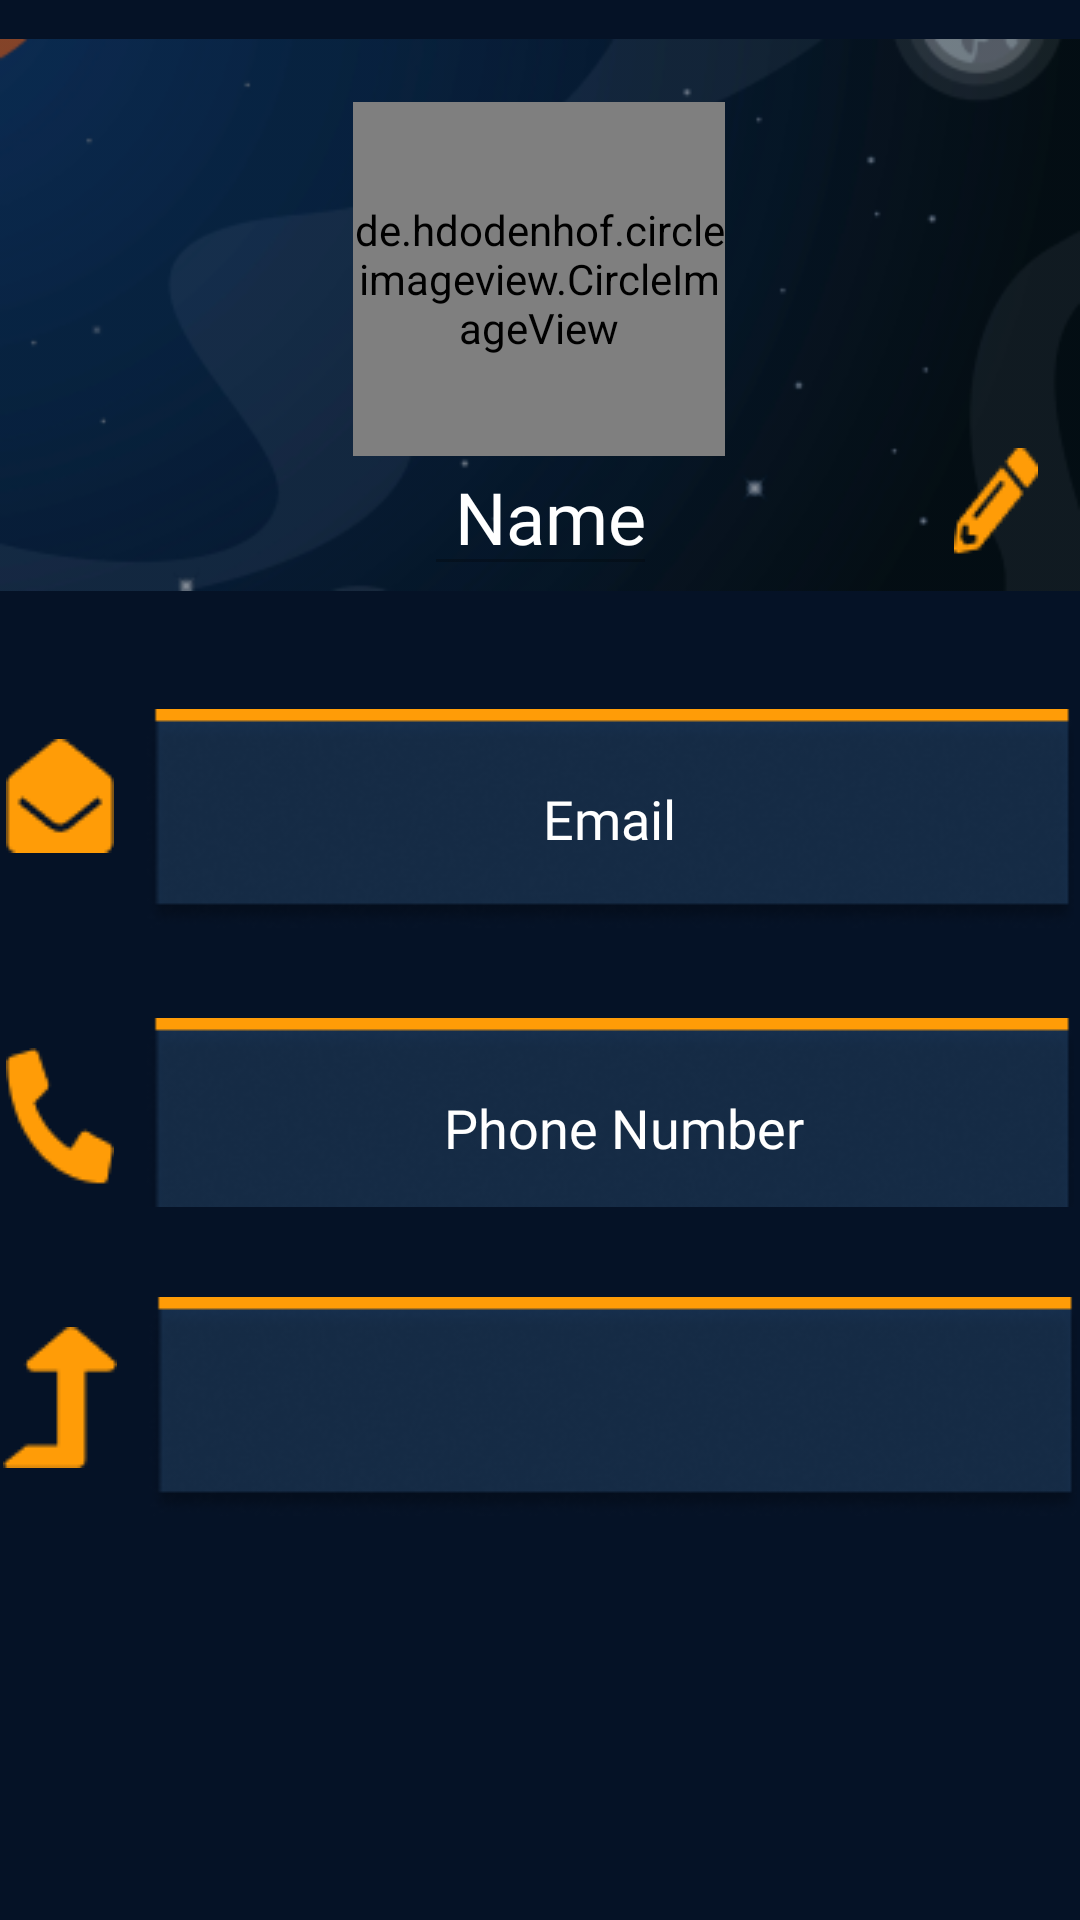

Screen size 1080×1920. Icon name, then its box in pixels as (x1, y1, x2, y2):
pencil: (954, 448, 1038, 554)
phoneicon: (6, 1048, 114, 1184)
